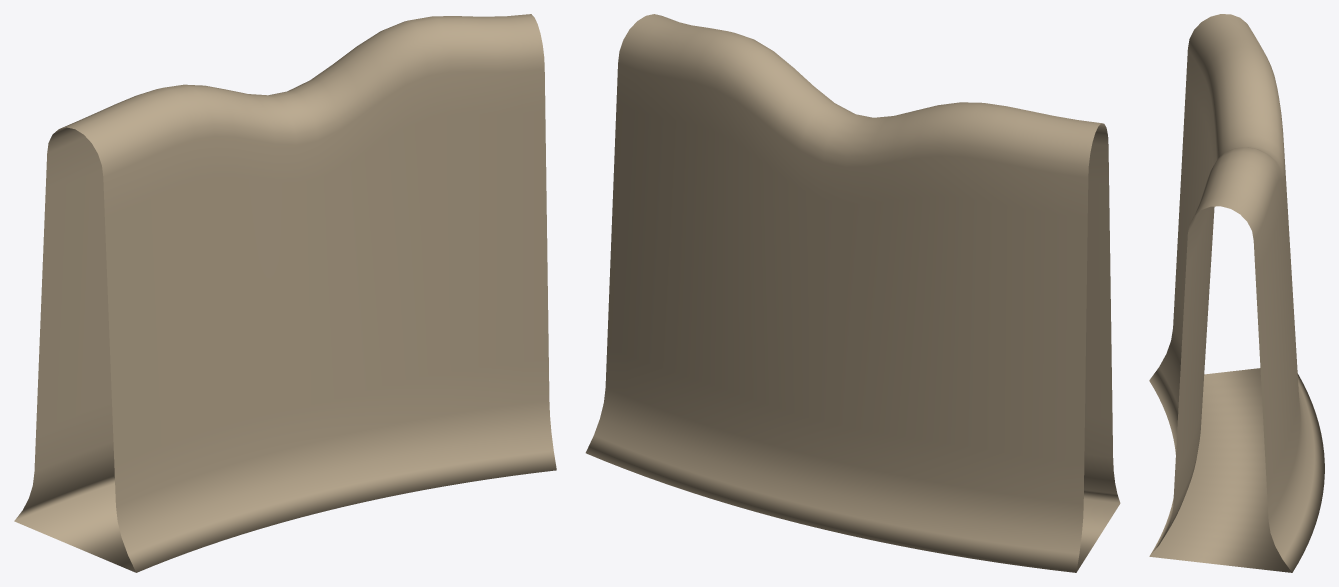
Rendered from KFB_Wall_curved_ring_r2.r3.glb.
The picture shows the model from 3 angles, left to right: view 1: azimuth 30°, elevation 25°; view 2: azimuth 150°, elevation 25°; view 3: azimuth 270°, elevation 25°; orthographic projection. The views are drawn at different scales.
Visible parts, largest first — view 1: KFB_Wall_curved_ring_r2; view 2: KFB_Wall_curved_ring_r2; view 3: KFB_Wall_curved_ring_r2.
Boxes of the visible parts, box(x1,y1,x2,y2) form: KFB_Wall_curved_ring_r2: box(14, 14, 556, 572); KFB_Wall_curved_ring_r2: box(585, 14, 1120, 572); KFB_Wall_curved_ring_r2: box(1149, 14, 1324, 572).
Size of the model in its own units: 4.49 by 3.7 by 1.6.
